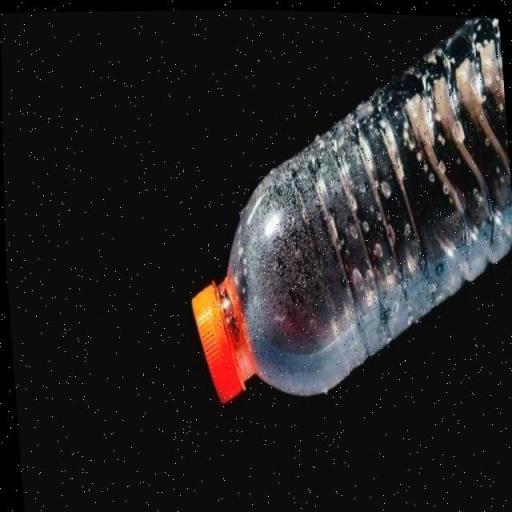plastic: (168, 5, 512, 421)
